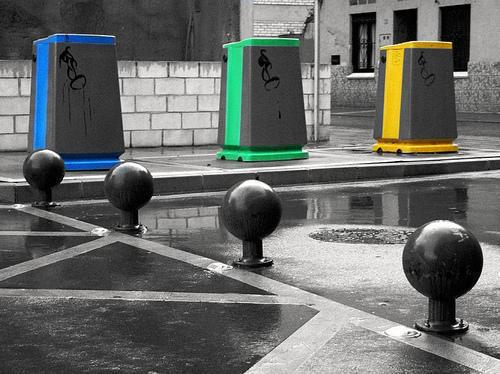Bote de Basura: (26, 33, 123, 172), (217, 38, 307, 160), (378, 36, 460, 153)
